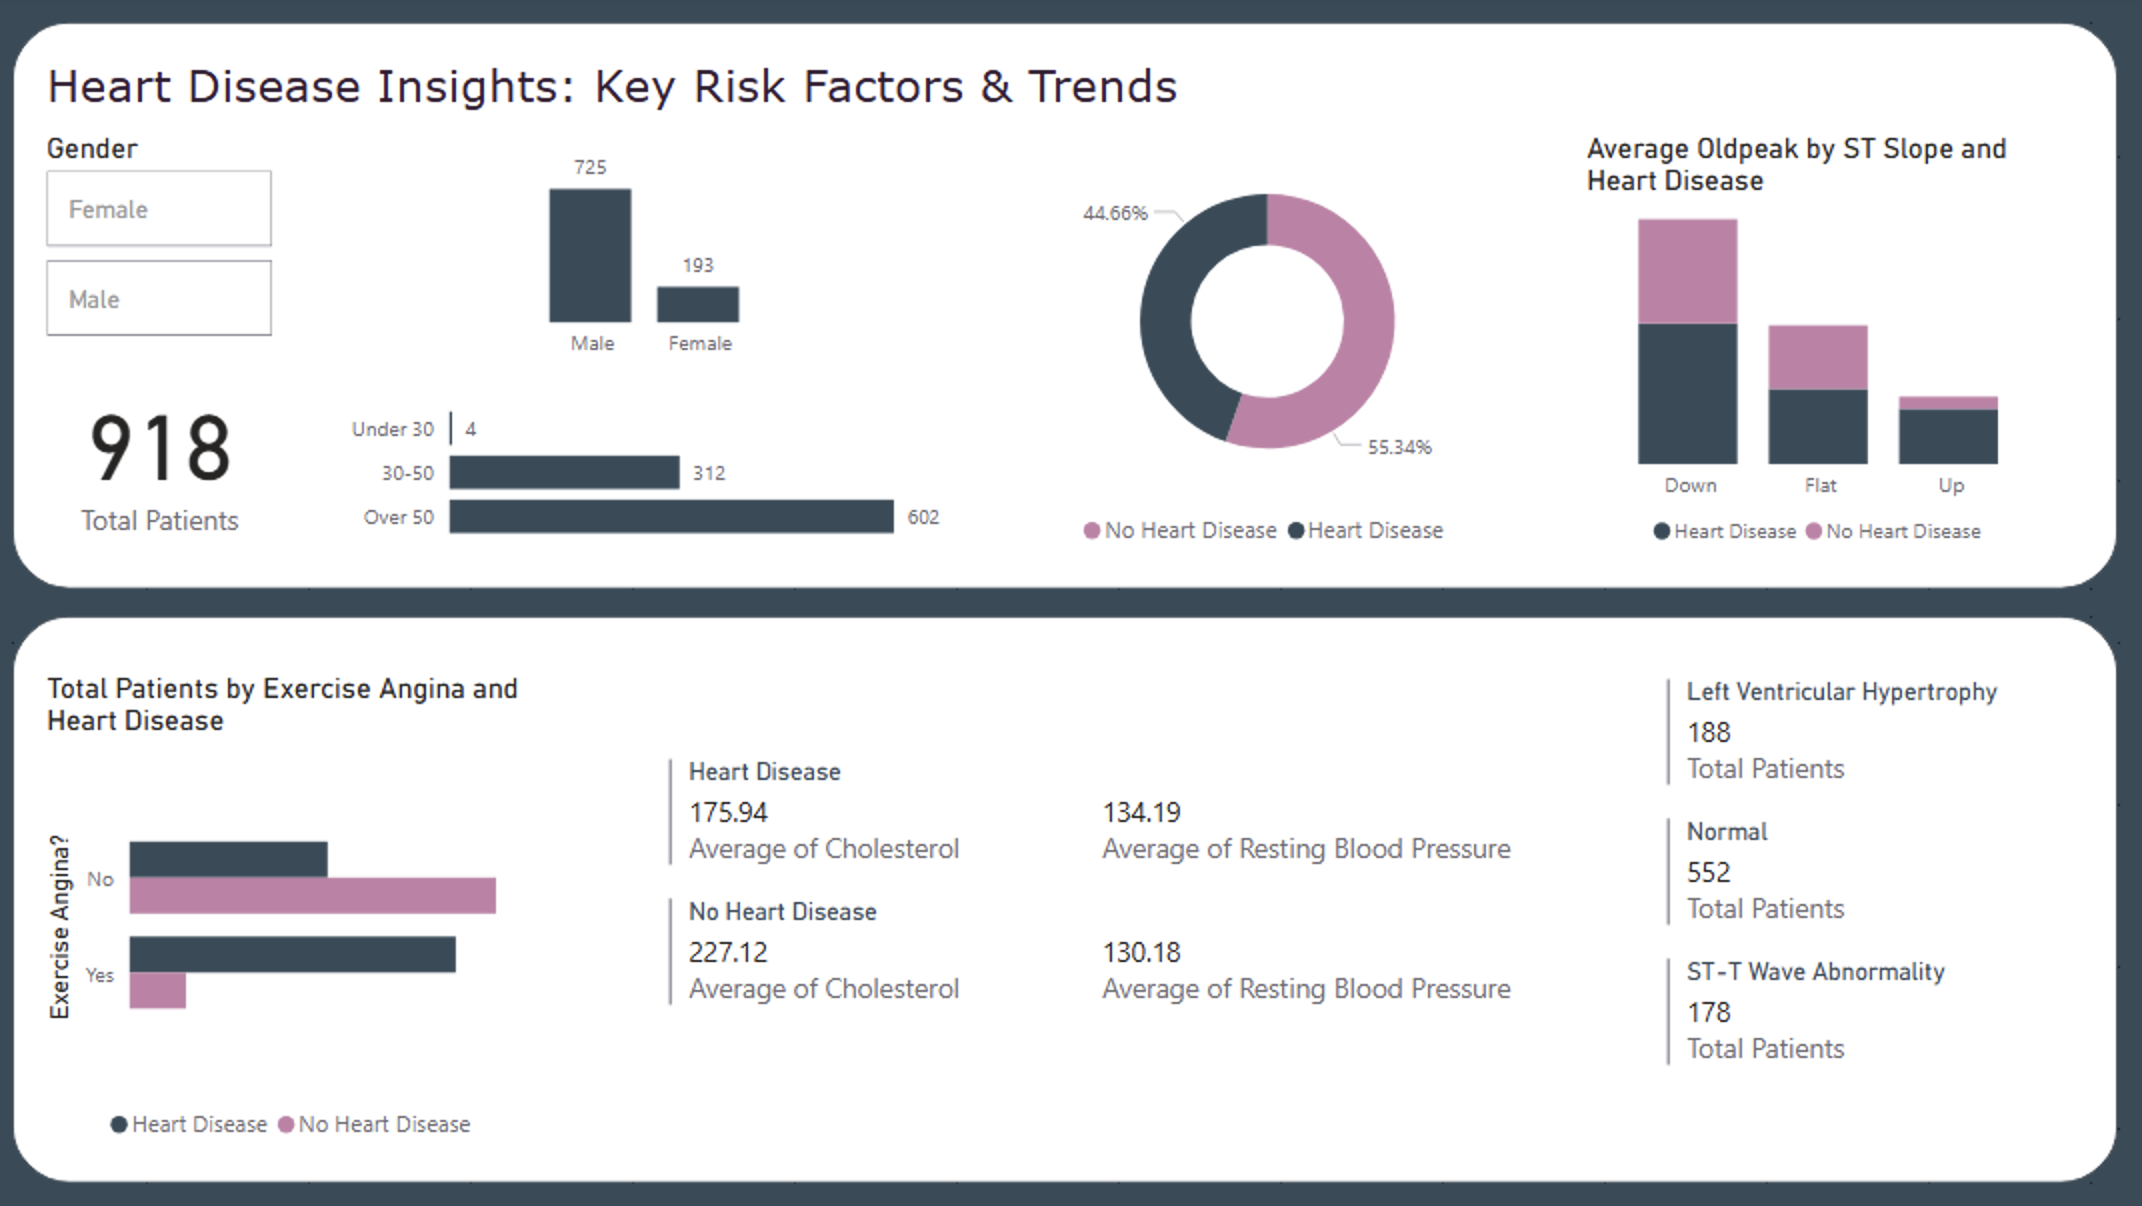

The dashboard page shown, as its layout file describes it:
{"tool":"powerbi","page":{"name":"Page 1","canvas":[1280,720],"ordinal":0},"visuals":[{"type":"shape","box":[16,368,1248,336],"z":0},{"type":"shape","box":[16,16,1248,336],"z":1000},{"type":"card","fields":{"Values":["heart.Total Patients"]},"box":[32,208,144,128],"z":2000},{"type":"clusteredBarChart","title":"Total Patients by Age Group","fields":{"Category":["heart.AgeGroup"],"Y":["heart.Total Patients"]},"box":[208,224,368,112],"z":3000},{"type":"donutChart","title":"Heart Disease","fields":{"Y":["heart.Heart Disease %"],"Category":["heart.HeartDisease"]},"box":[624,80,272,256],"z":4000},{"type":"multiRowCard","fields":{"Values":["heart.HeartDisease","Avg(heart.Cholesterol)","Avg(heart.Resting Blood Pressure)"]},"box":[400,448,512,192],"z":5000},{"type":"columnChart","title":"Average Oldpeak by ST Slope and Heart Disease","fields":{"Category":["heart.ST_Slope"],"Y":["Avg(heart.Oldpeak)"],"Series":["heart.HeartDisease"]},"box":[944,80,288,256],"z":6000},{"type":"multiRowCard","title":"Heart Disease, Cholesterol and Resting Blood Pressure by AgeGroup","fields":{"Values":["heart.RestingECG","heart.Total Patients"]},"box":[992,400,256,288],"z":7000},{"type":"advancedSlicerVisual","fields":{"Values":["heart.Sex"]},"box":[32,80,144,128],"z":8000},{"type":"clusteredBarChart","title":"Total Patients by Exercise Angina and Heart Disease","fields":{"Category":["heart.ExerciseAngina"],"Y":["heart.Total Patients"],"Series":["heart.HeartDisease"]},"box":[32,400,304,288],"z":9000},{"type":"columnChart","fields":{"Category":["heart.Gender"],"Y":["heart.Total Patients"]},"box":[272,80,240,144],"z":10000},{"type":"textbox","box":[32,32,720,48],"z":11000}]}

Visuals, with their boxes in screenshot pixels (x1, y1, x2, y2), scaled from the page's 1280x720 canvas onto the 2142x1206 screenshot:
shape: select_region(27, 616, 2115, 1179)
shape: select_region(27, 27, 2115, 590)
card - heart.Total Patients: select_region(54, 348, 295, 563)
"Total Patients by Age Group" clusteredBarChart: select_region(348, 375, 964, 563)
"Heart Disease" donutChart: select_region(1044, 134, 1499, 563)
multiRowCard - heart.HeartDisease x Avg(heart.Cholesterol): select_region(669, 750, 1526, 1072)
"Average Oldpeak by ST Slope and Heart Disease" columnChart: select_region(1580, 134, 2062, 563)
"Heart Disease, Cholesterol and Resting Blood Pressure by AgeGroup" multiRowCard: select_region(1660, 670, 2088, 1152)
advancedSlicerVisual - heart.Sex: select_region(54, 134, 295, 348)
"Total Patients by Exercise Angina and Heart Disease" clusteredBarChart: select_region(54, 670, 562, 1152)
columnChart - heart.Gender x heart.Total Patients: select_region(455, 134, 857, 375)
textbox: select_region(54, 54, 1258, 134)
